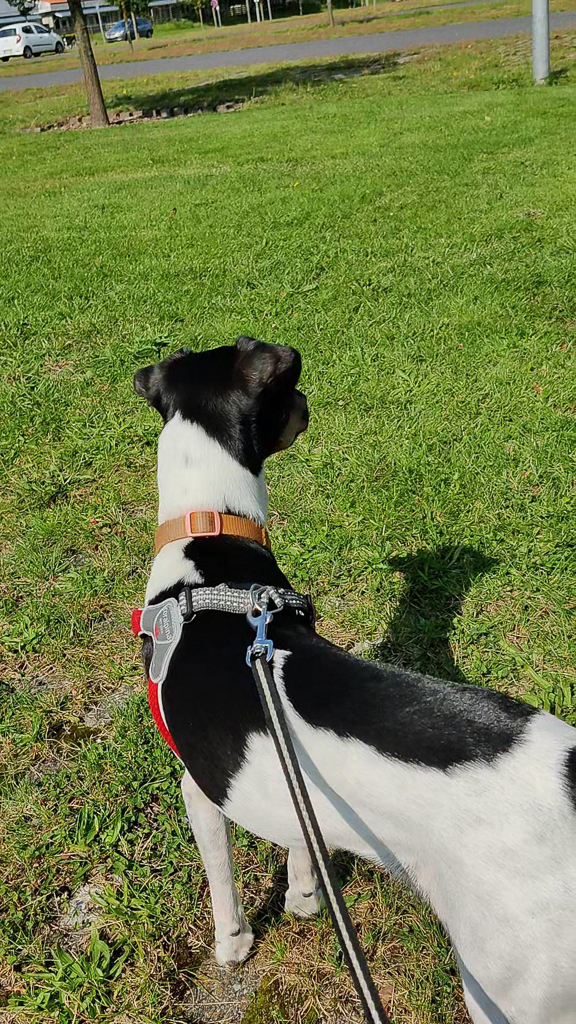Dog: (98, 328, 576, 1024)
